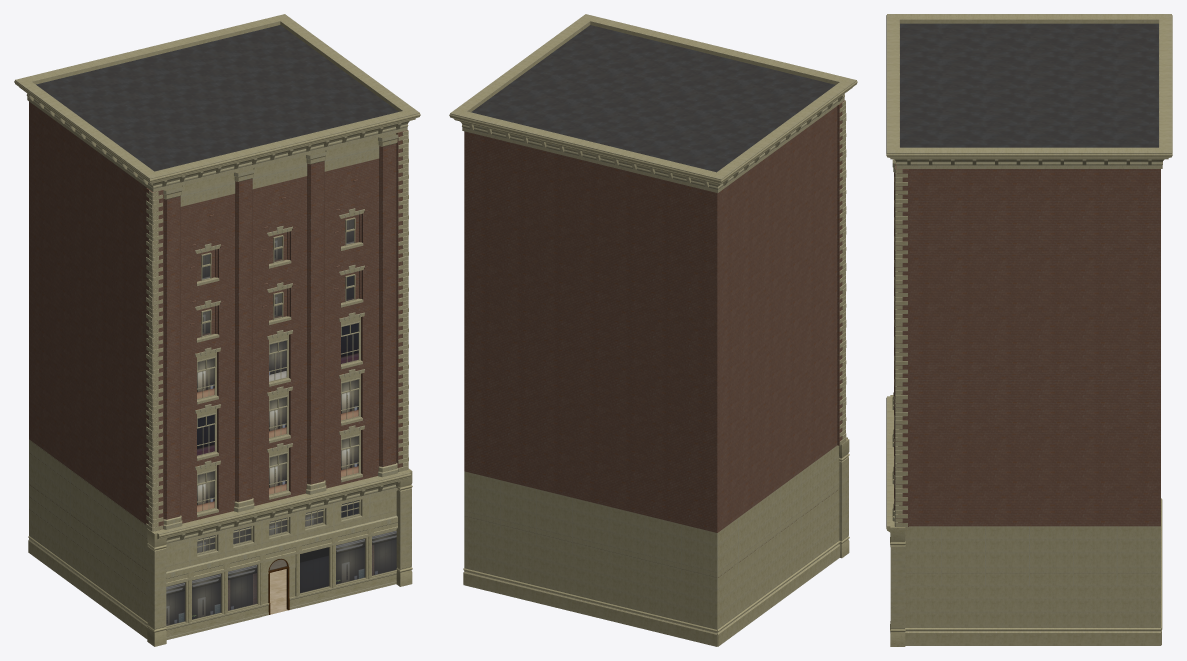
Rendered from Building_Medium_2_001.gltf.
3 views of the same model, side by side, from view 1: azimuth 30°, elevation 25°; view 2: azimuth 150°, elevation 25°; view 3: azimuth 270°, elevation 25° (orthographic). The views are drawn at different scales.
Visible parts, largest first — view 1: Building_Medium_2.001; view 2: Building_Medium_2.001; view 3: Building_Medium_2.001.
Part boxes in pixels (left/top/right/bottom): Building_Medium_2.001: left=14, top=14, right=420, bottom=646; Building_Medium_2.001: left=449, top=14, right=857, bottom=646; Building_Medium_2.001: left=886, top=14, right=1172, bottom=646.
Size of the model in its own units: 15.06 by 25.01 by 13.06.
Materials: 12 (11 with a texture image).
